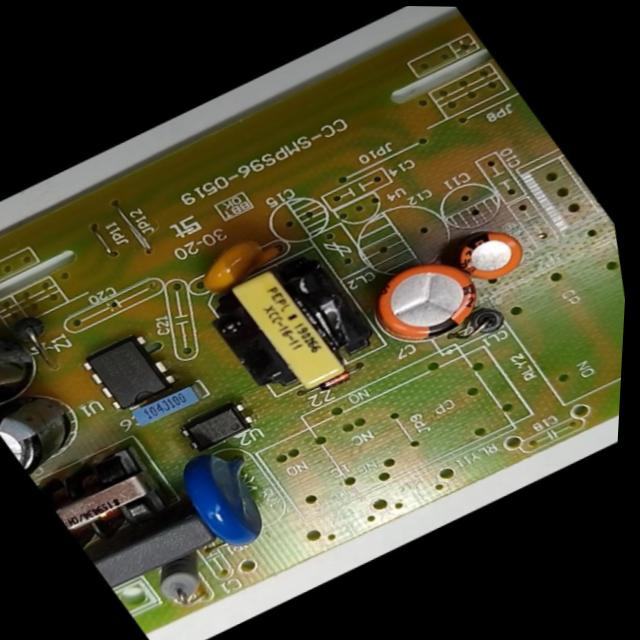Cap1: (340, 233, 514, 369)
Cap2: (431, 209, 547, 301)
Cap3: (0, 368, 110, 488)
Cap4: (0, 291, 71, 418)
MOSFET: (61, 314, 200, 430)
Mov: (151, 423, 312, 572)
Resistor: (133, 536, 235, 619)
Transformer: (176, 226, 412, 430), (24, 423, 202, 568)
